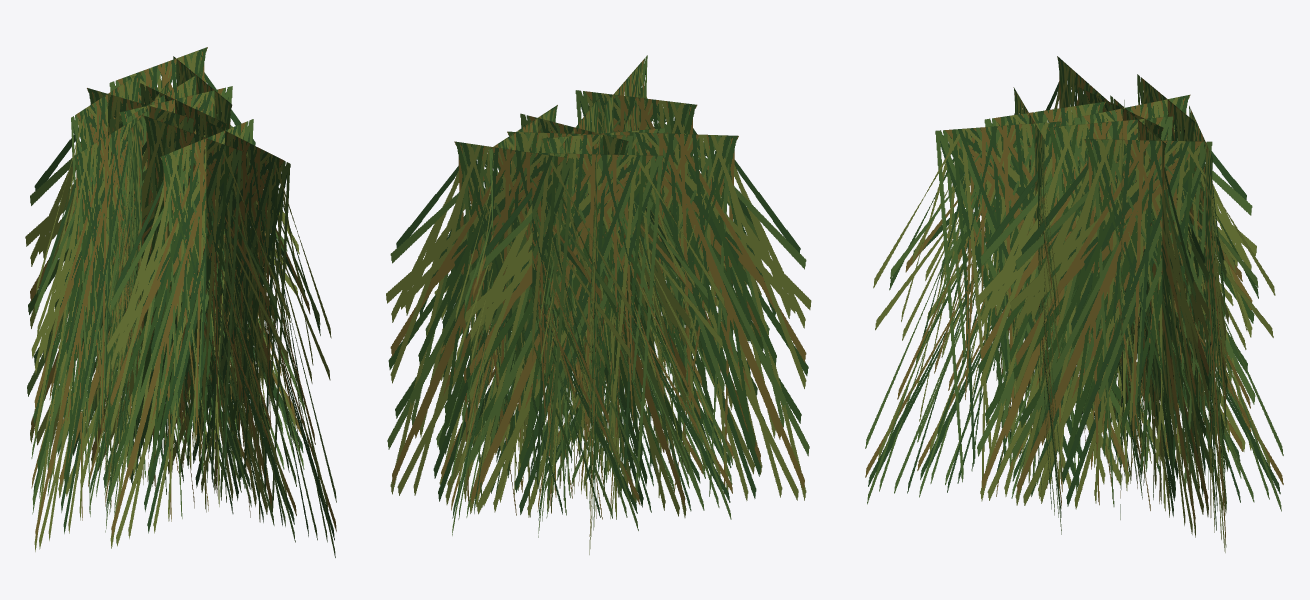
File: grasbueschel_1.glb
3 renders of one model, left to right at view 1: azimuth 30°, elevation 25°; view 2: azimuth 150°, elevation 25°; view 3: azimuth 270°, elevation 25°, orthographic. The views are drawn at different scales.
Parts seen in each view (by area): view 1: grasbueschel_1_n1; view 2: grasbueschel_1_n1; view 3: grasbueschel_1_n1.
Boxes of the visible parts, x1,y1,x2,y2 form: grasbueschel_1_n1: [25, 47, 336, 557]; grasbueschel_1_n1: [386, 55, 811, 554]; grasbueschel_1_n1: [865, 56, 1283, 552].
Size of the model in its own units: 0.2901 by 0.3136 by 0.3147.
1 material, 1 textured.
